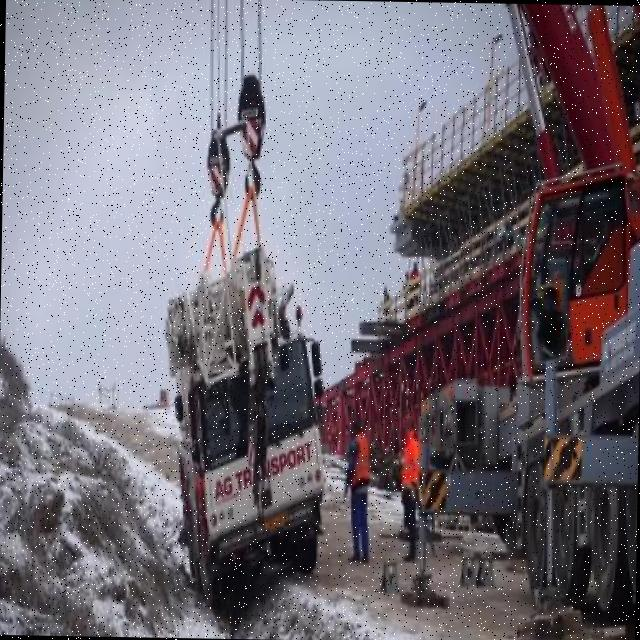Mobile Crane: (454, 2, 640, 633), (159, 247, 327, 600)
